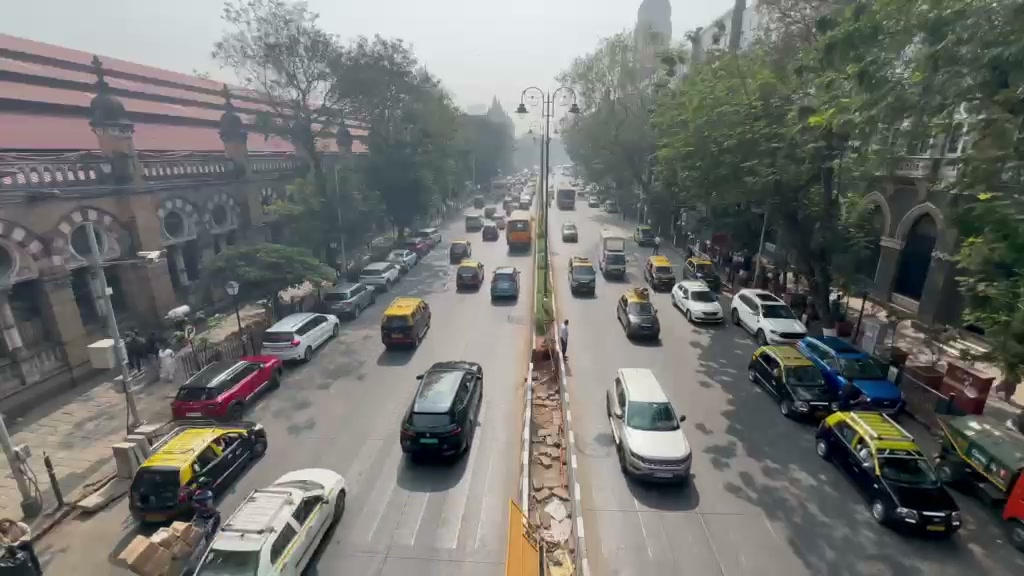bus: (504, 212, 534, 254), (557, 188, 576, 210)
car: (813, 408, 963, 539), (193, 466, 348, 573), (128, 420, 270, 526), (606, 366, 694, 486), (746, 339, 856, 423), (399, 359, 484, 465), (110, 503, 222, 576), (802, 334, 904, 412), (170, 354, 283, 422), (937, 414, 1024, 502), (259, 311, 340, 366), (731, 288, 808, 345), (379, 294, 432, 349), (615, 286, 662, 343), (670, 279, 725, 326), (318, 278, 375, 321), (1001, 466, 1024, 553), (643, 254, 678, 292), (358, 260, 403, 288), (568, 256, 597, 297), (490, 266, 519, 303), (456, 261, 485, 292), (449, 240, 472, 264)
pedestrian: (0, 518, 43, 574)
truck: (814, 408, 963, 539), (600, 235, 629, 281)
